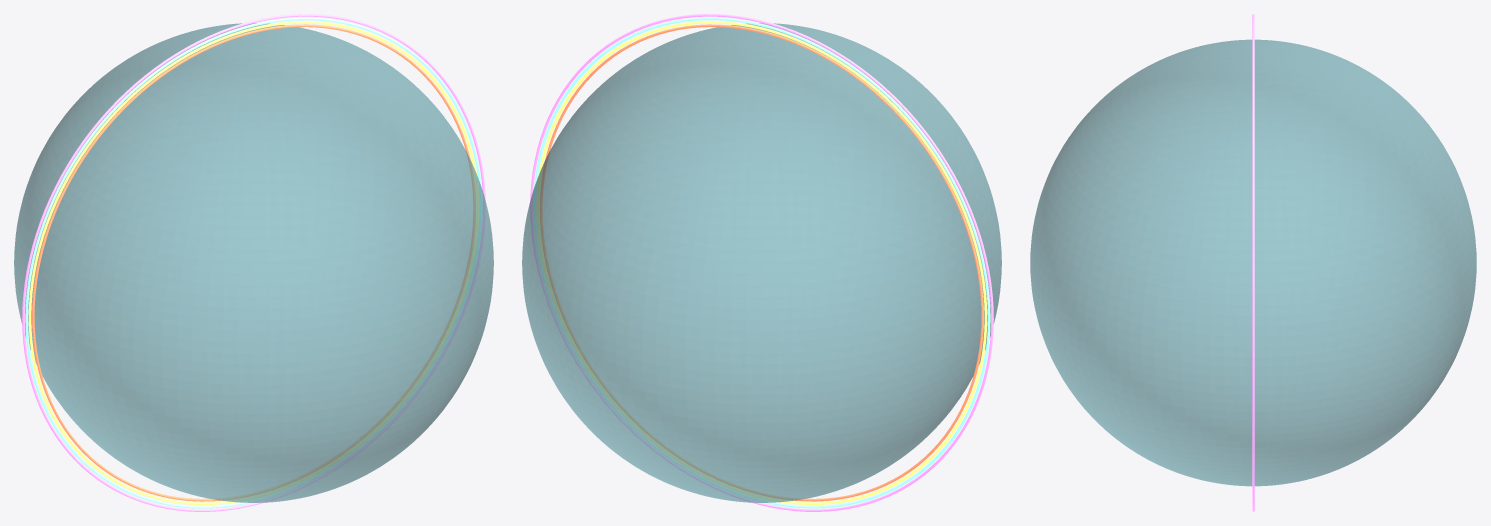
Rendered from rainbow_raindrop_v03.glb.
3 views of the same model, side by side, from view 1: azimuth 30°, elevation 25°; view 2: azimuth 150°, elevation 25°; view 3: azimuth 270°, elevation 25° (orthographic). The views are drawn at different scales.
Parts seen in each view (by area): view 1: Raindrop_Optical_Glass, Spectrum_Ring_4, Spectrum_Ring_3, Spectrum_Ring_2, Spectrum_Ring_1; view 2: Raindrop_Optical_Glass, Spectrum_Ring_4, Spectrum_Ring_3, Spectrum_Ring_2, Spectrum_Ring_1; view 3: Raindrop_Optical_Glass, Spectrum_Ring_4.
Part boxes in pixels (x1,y1,x2,y2): Raindrop_Optical_Glass: (14, 23, 493, 502); Spectrum_Ring_4: (22, 14, 485, 511); Spectrum_Ring_3: (25, 17, 482, 508); Spectrum_Ring_2: (28, 21, 478, 504); Spectrum_Ring_1: (32, 24, 475, 501); Raindrop_Optical_Glass: (522, 23, 1001, 502); Spectrum_Ring_4: (530, 14, 993, 511); Spectrum_Ring_3: (533, 17, 990, 508); Spectrum_Ring_2: (537, 21, 987, 504); Spectrum_Ring_1: (540, 24, 983, 501); Raindrop_Optical_Glass: (1030, 39, 1476, 486); Spectrum_Ring_4: (1252, 14, 1254, 511).
Size of the model in its own units: 3.57 by 3.57 by 3.2.
